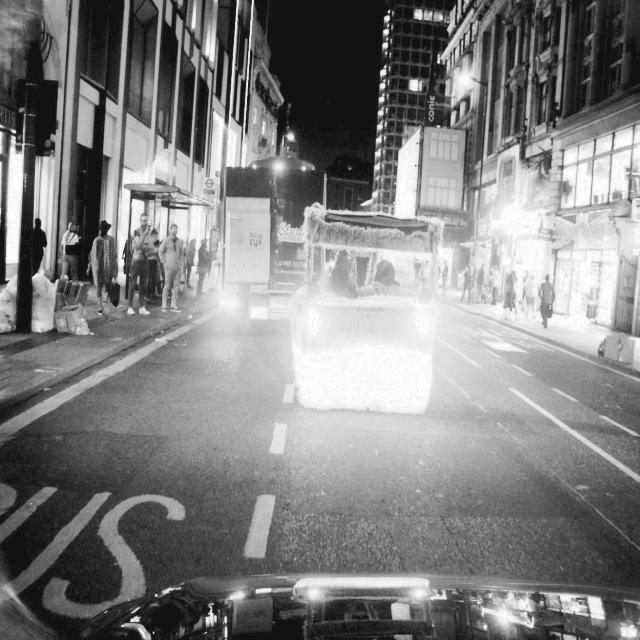Motorcycle: (295, 208, 445, 420)
Truck: (219, 159, 324, 320)
